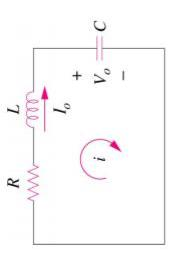inductor: (19, 83, 40, 134)
